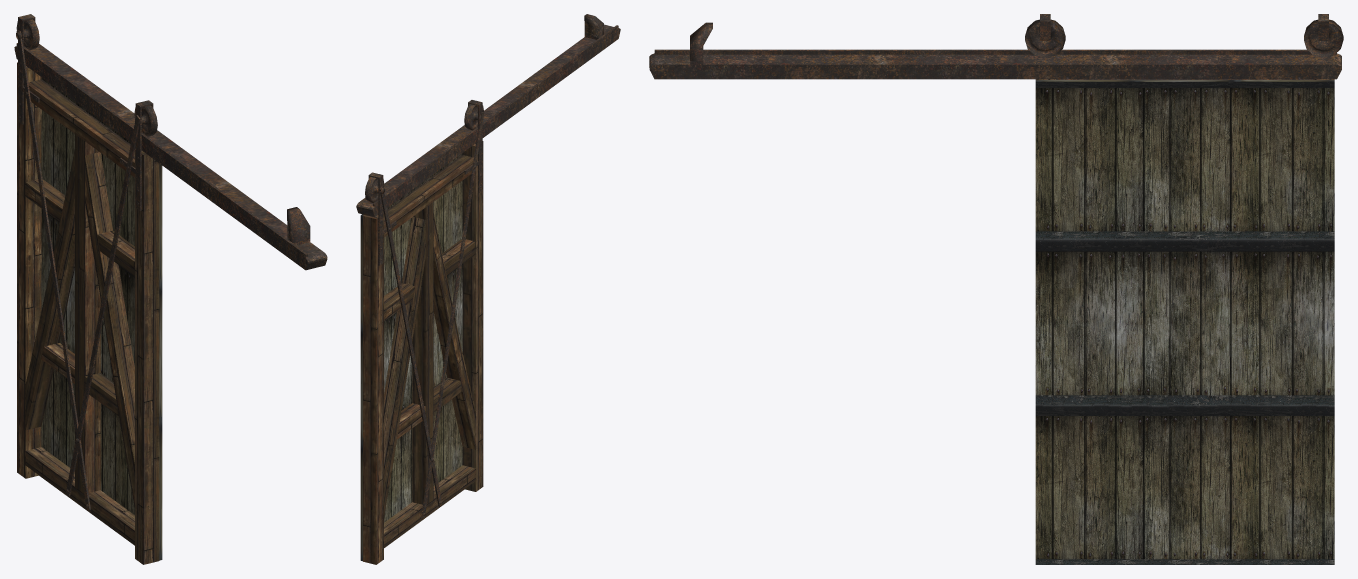
The model's file is SlidingDoor.FBX.
3 renders of one model, left to right at view 1: azimuth 30°, elevation 25°; view 2: azimuth 150°, elevation 25°; view 3: azimuth 270°, elevation 25°, orthographic. The views are drawn at different scales.
Parts seen in each view (by area): view 1: blanks, Plane, Cube.000, Cube.006; view 2: blanks, Plane, Cube.000, Cube.006; view 3: Plane, Cube.000, Cube.006.
Part boxes in pixels (box(x1,y1,x2,y2)): blanks: box(17, 62, 159, 564); Plane: box(41, 77, 162, 560); Cube.000: box(14, 43, 327, 270); Cube.006: box(16, 14, 157, 545); blanks: box(363, 141, 483, 564); Plane: box(360, 153, 462, 561); Cube.000: box(356, 14, 620, 217); Cube.006: box(365, 100, 484, 547); Plane: box(1035, 80, 1334, 564); Cube.000: box(649, 22, 1341, 79); Cube.006: box(1025, 14, 1343, 79).
Bounding box in the file's own units: 13.12 × 267 × 229.
